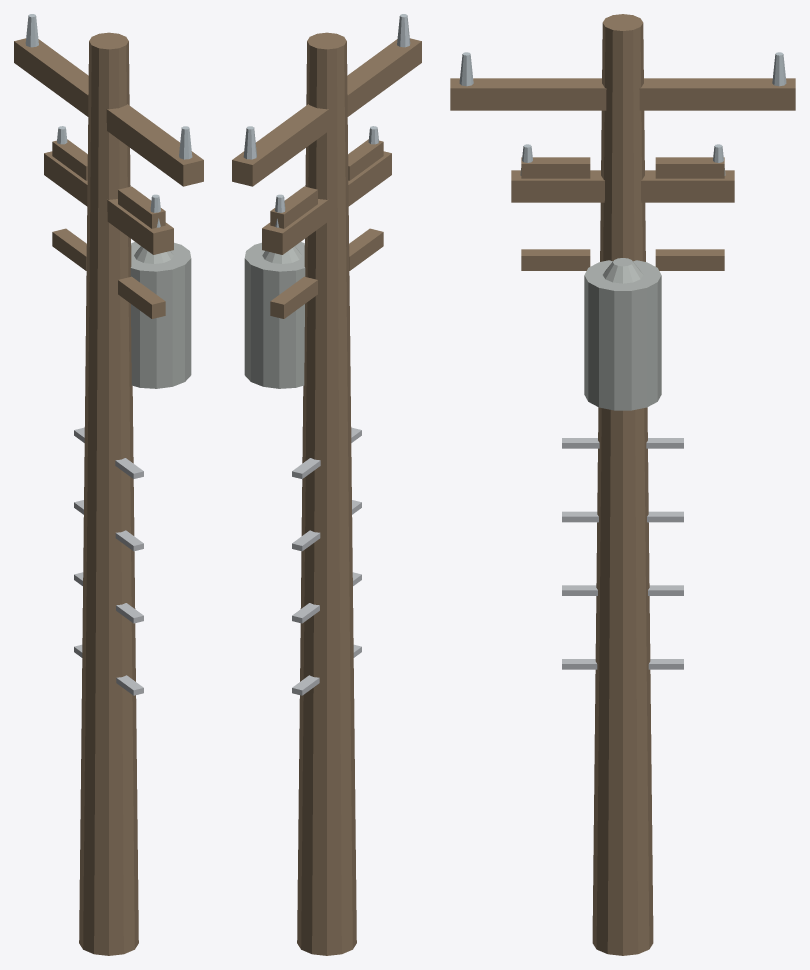
File: dm_utilitypole.glb
3 renders of one model, left to right at view 1: azimuth 30°, elevation 25°; view 2: azimuth 150°, elevation 25°; view 3: azimuth 270°, elevation 25°, orthographic. The views are drawn at different scales.
Parts seen in each view (by area): view 1: utilitypole; view 2: utilitypole; view 3: utilitypole.
Boxes of the visible parts, x1,y1,x2,y2 form: utilitypole: (14, 14, 203, 955); utilitypole: (232, 14, 421, 955); utilitypole: (450, 14, 795, 955).
Size of the model in its own units: 0.5952 by 5 by 1.7.
